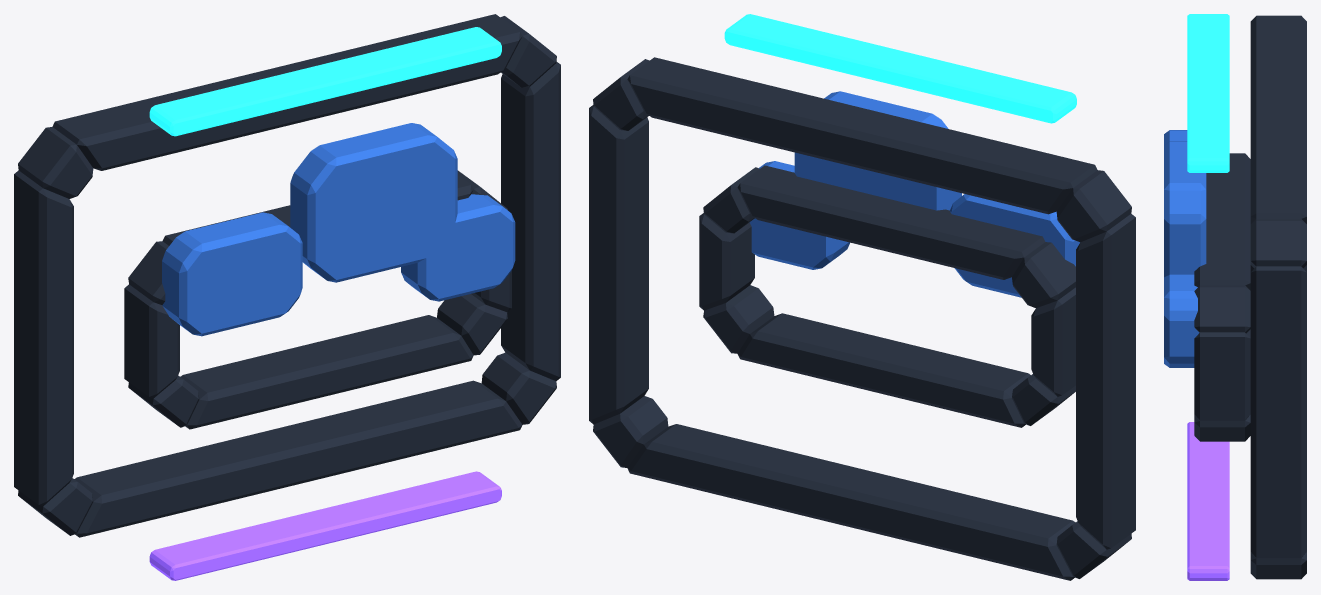
File: tech-aws.glb
The picture shows the model from 3 angles, left to right: view 1: azimuth 30°, elevation 25°; view 2: azimuth 150°, elevation 25°; view 3: azimuth 270°, elevation 25°; orthographic projection. The views are drawn at different scales.
Parts seen in each view (by area): view 1: tech-aws_SystemMaterial, tech-aws_CoreMaterial, tech-aws_AccentMaterial, tech-aws_SignalMaterial; view 2: tech-aws_SystemMaterial, tech-aws_CoreMaterial, tech-aws_SignalMaterial; view 3: tech-aws_SystemMaterial, tech-aws_CoreMaterial, tech-aws_SignalMaterial, tech-aws_AccentMaterial.
Part boxes in pixels (box(x1,y1,x2,y2)): tech-aws_SystemMaterial: box(14, 14, 560, 537); tech-aws_CoreMaterial: box(162, 123, 515, 336); tech-aws_AccentMaterial: box(149, 471, 501, 580); tech-aws_SignalMaterial: box(149, 27, 501, 136); tech-aws_SystemMaterial: box(589, 57, 1135, 580); tech-aws_CoreMaterial: box(749, 91, 1079, 297); tech-aws_SignalMaterial: box(724, 14, 1076, 123); tech-aws_SystemMaterial: box(1194, 15, 1306, 579); tech-aws_CoreMaterial: box(1164, 130, 1206, 367); tech-aws_SignalMaterial: box(1187, 14, 1229, 172); tech-aws_AccentMaterial: box(1187, 422, 1229, 580).
Size of the model in its own units: 1.18 by 0.995 by 0.305.
